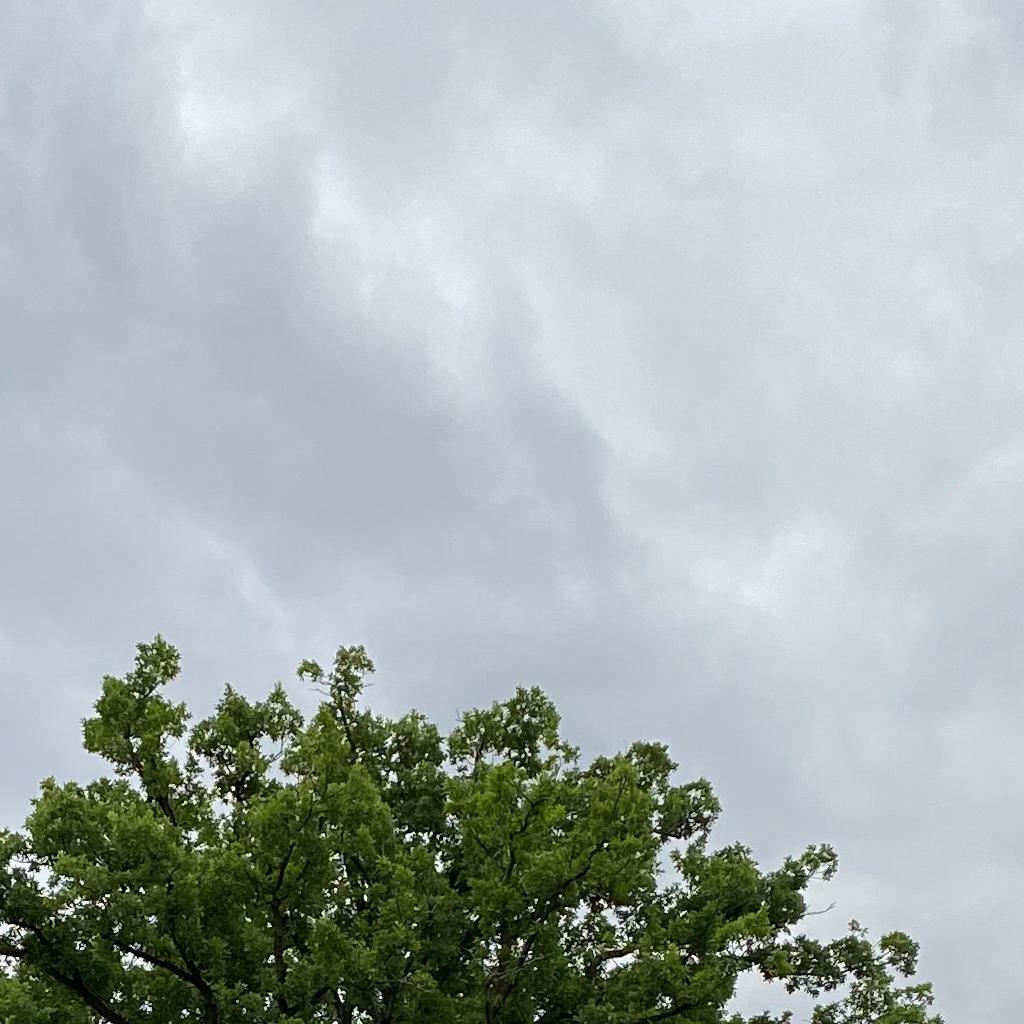tree: (1, 634, 943, 1024)
